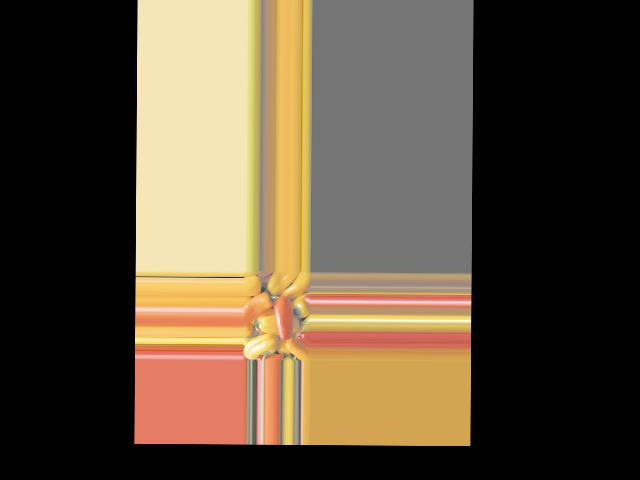bell_pepper: (244, 331, 275, 360)
